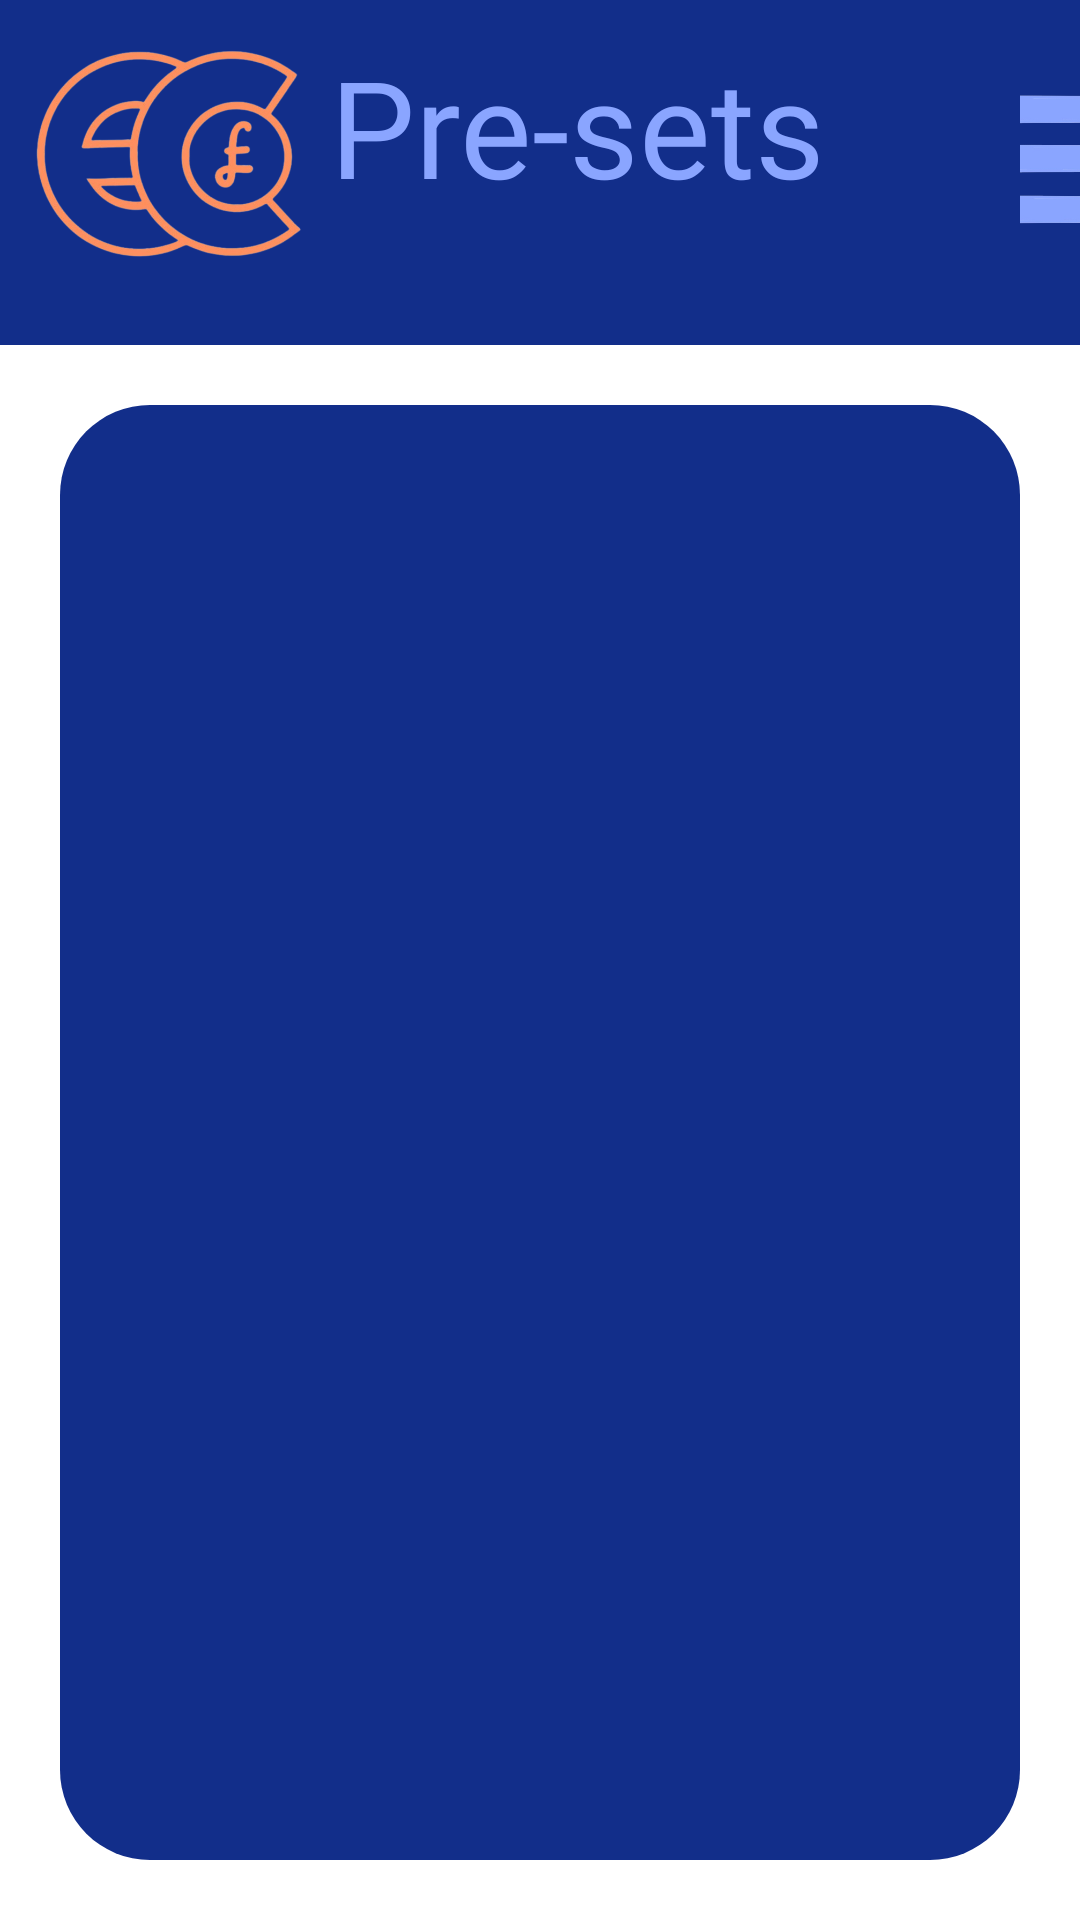

Named icons in this screenshot (1080px x 1920px) and their bounding boxes, (x1,y1,x2,y2):
menu: (1020,95,1080,223)
